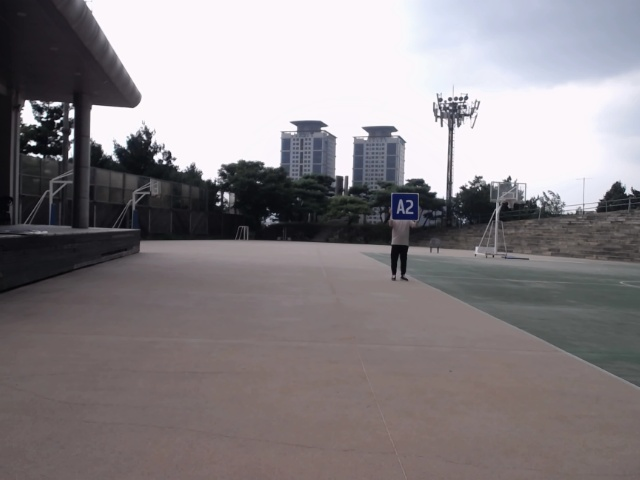delivery_a2: (391, 193, 419, 220)
